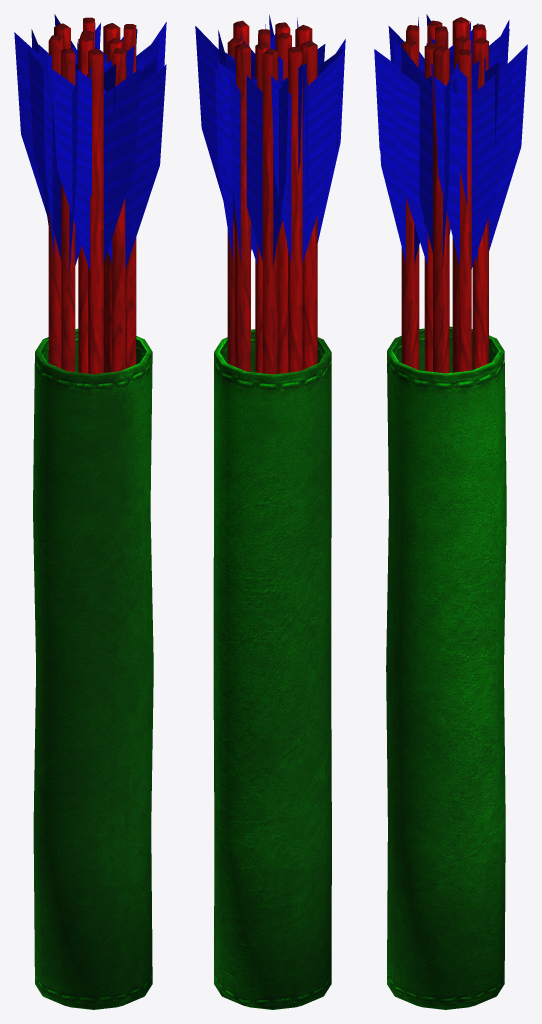
Rendered from Quiver01.fbx.
3 renders of one model, left to right at view 1: azimuth 30°, elevation 25°; view 2: azimuth 150°, elevation 25°; view 3: azimuth 270°, elevation 25°, orthographic.
Parts seen in each view (by area): view 1: Quiver01_LOD0; view 2: Quiver01_LOD0; view 3: Quiver01_LOD0.
Part boxes in pixels (x1=…): Quiver01_LOD0: x1=14, y1=14, x2=166, y2=1009; Quiver01_LOD0: x1=195, y1=14, x2=345, y2=1009; Quiver01_LOD0: x1=374, y1=14, x2=527, y2=1009.
Size of what is drawn, in the model's own units: 0.119 by 0.8115 by 0.117.
